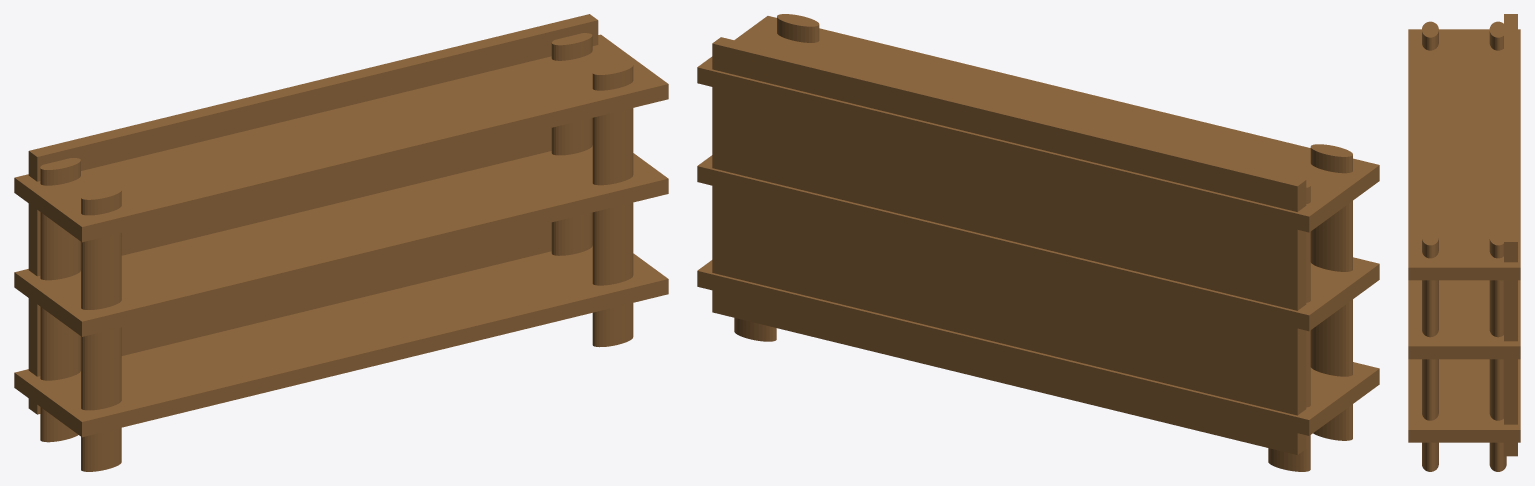
File: ENVIRONMENT_OFFICE_RAK.fbx
3 renders of one model, left to right at view 1: azimuth 30°, elevation 25°; view 2: azimuth 150°, elevation 25°; view 3: azimuth 270°, elevation 25°, orthographic. The views are drawn at different scales.
Parts seen in each view (by area): view 1: Cube.214; view 2: Cube.214; view 3: Cube.214.
Boxes of the visible parts, x1=… form: Cube.214: x1=14, y1=14, x2=668, y2=471; Cube.214: x1=697, y1=14, x2=1379, y2=471; Cube.214: x1=1408, y1=14, x2=1520, y2=471.
Bounding box in the file's own units: 517 × 237 × 103.
